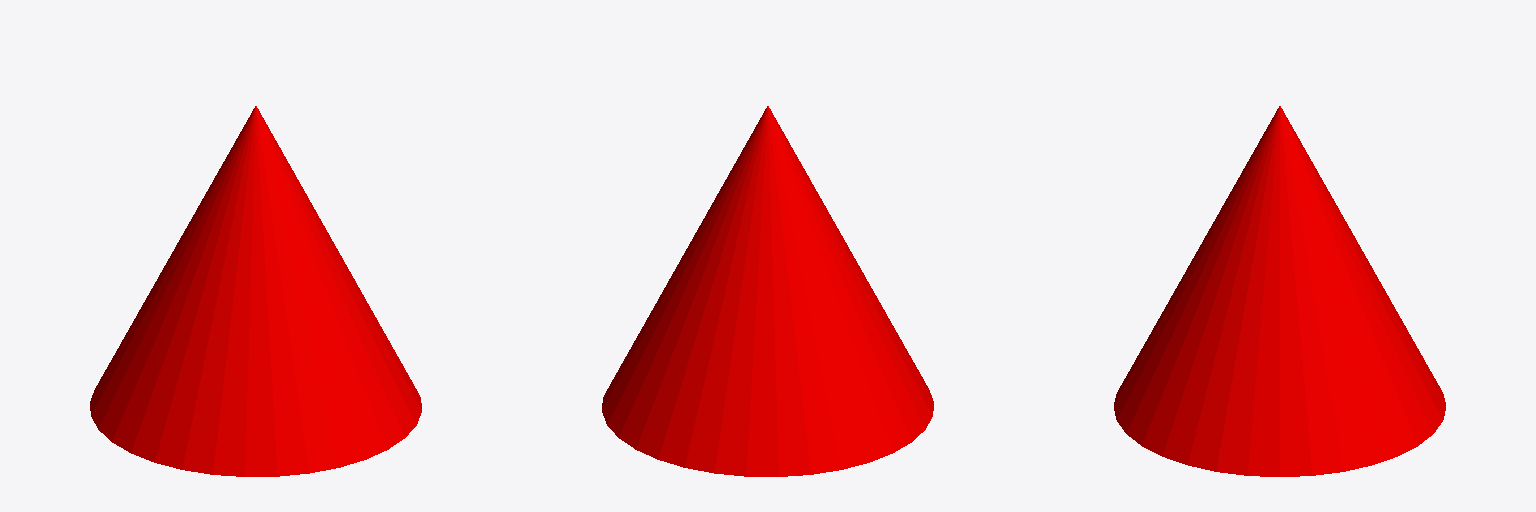
The model's file is red_cone.obj.
3 renders of one model, left to right at view 1: azimuth 30°, elevation 25°; view 2: azimuth 150°, elevation 25°; view 3: azimuth 270°, elevation 25°, orthographic.
Visible parts, largest first — view 1: Cone; view 2: Cone; view 3: Cone.
Boxes of the visible parts, <box> form: Cone: <box>90,106,421,476</box>; Cone: <box>602,106,933,476</box>; Cone: <box>1114,106,1445,476</box>.
Size of the model in its own units: 2 by 2 by 2.